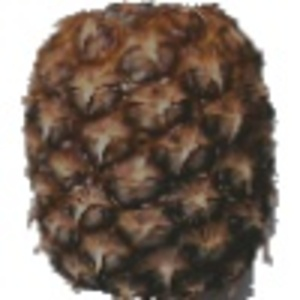abacaxi: (16, 3, 287, 292)
